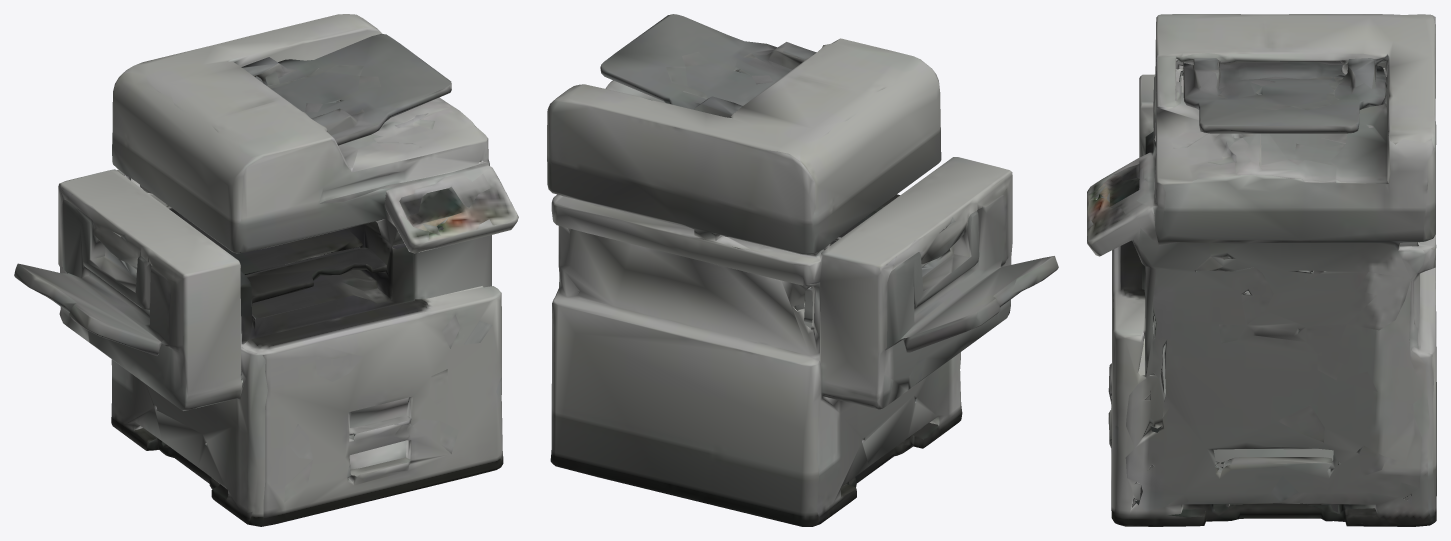
The model's file is printer.glb.
3 renders of one model, left to right at view 1: azimuth 30°, elevation 25°; view 2: azimuth 150°, elevation 25°; view 3: azimuth 270°, elevation 25°, orthographic. The views are drawn at different scales.
Parts seen in each view (by area): view 1: geometry_0; view 2: geometry_0; view 3: geometry_0.
Boxes of the visible parts, box(x1,y1,x2,y2) form: geometry_0: box(14, 14, 518, 526); geometry_0: box(547, 14, 1058, 526); geometry_0: box(1087, 14, 1436, 526).
Bounding box in the file's own units: 1 × 0.8876 × 0.7119.
Materials: 1 (1 with a texture image).
